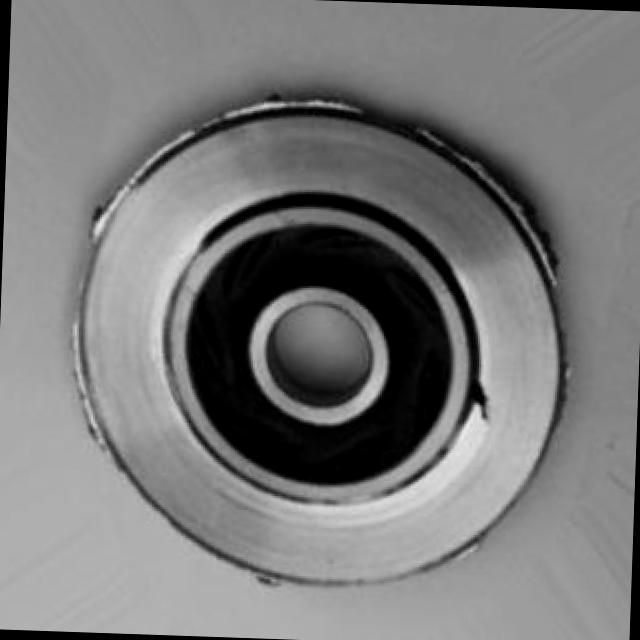Defect: (424, 120, 533, 204)
